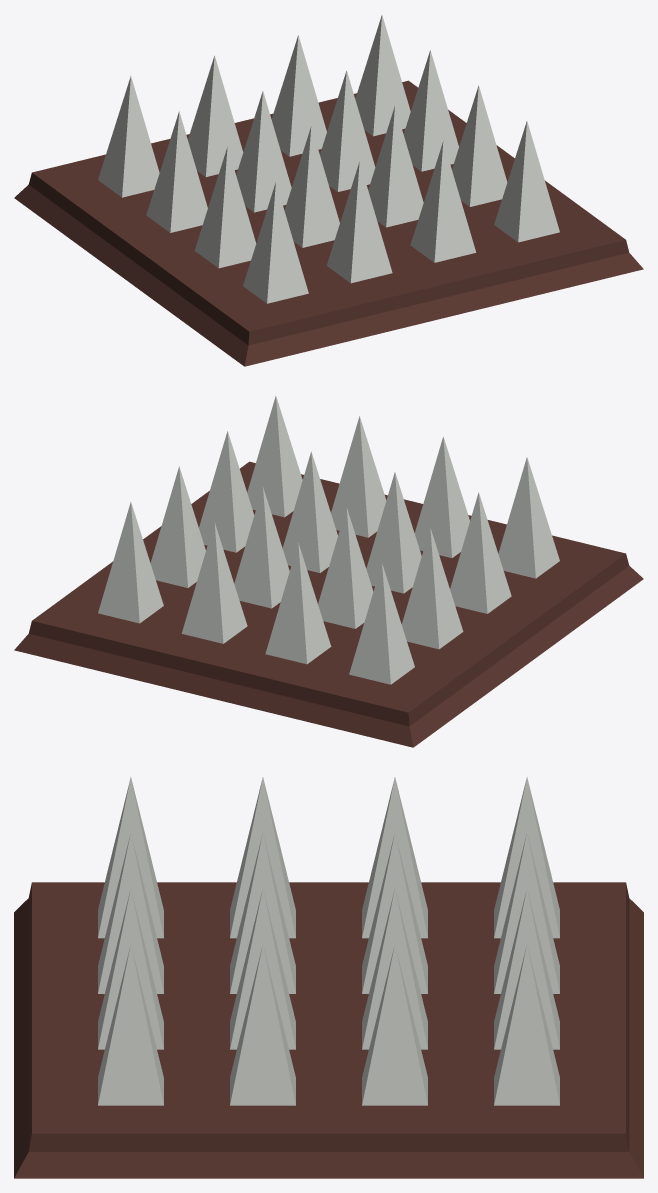
File: Spiketrap.fbx
The picture shows the model from 3 angles, top to bottom: view 1: azimuth 30°, elevation 25°; view 2: azimuth 150°, elevation 25°; view 3: azimuth 270°, elevation 25°; orthographic projection. The views are drawn at different scales.
Parts seen in each view (by area): view 1: Cube.001, Cube; view 2: Cube.001, Cube; view 3: Cube, Cube.001.
Part boxes in pixels (x1,y1,x2,y2): Cube.001: (98,15,559,303); Cube: (14,80,643,366); Cube.001: (98,396,559,684); Cube: (14,461,643,747); Cube: (14,882,643,1178); Cube.001: (98,777,559,1105).
Size of the model in its own units: 105 by 33.99 by 105.
